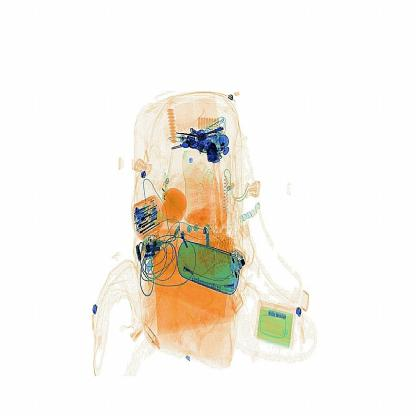scissors: (203, 131, 227, 169)
